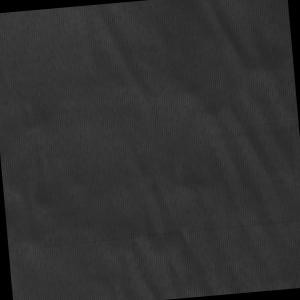Wrinkle: (86, 1, 300, 300)
